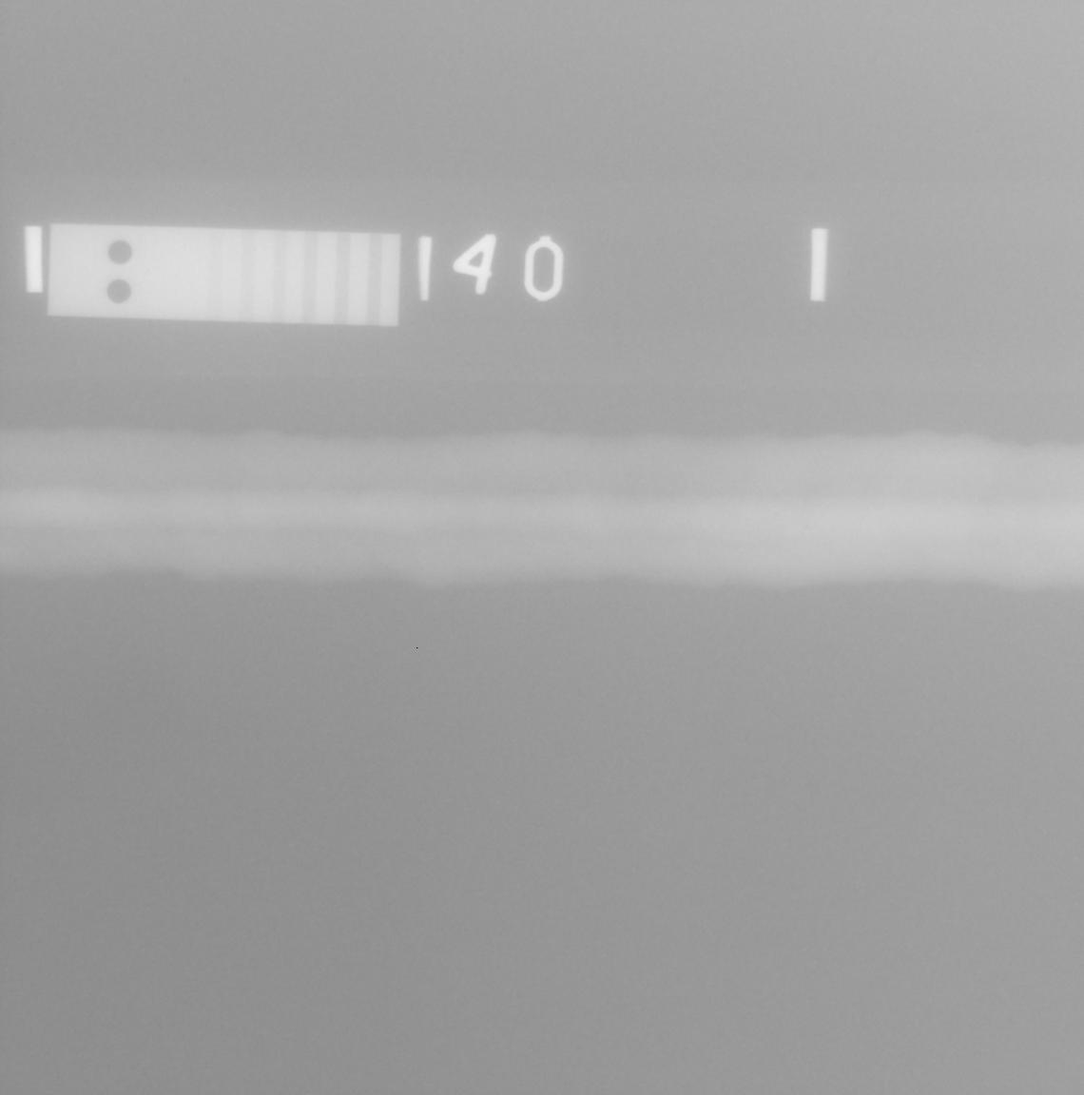Reference Standard 2: (47, 223, 401, 328)
